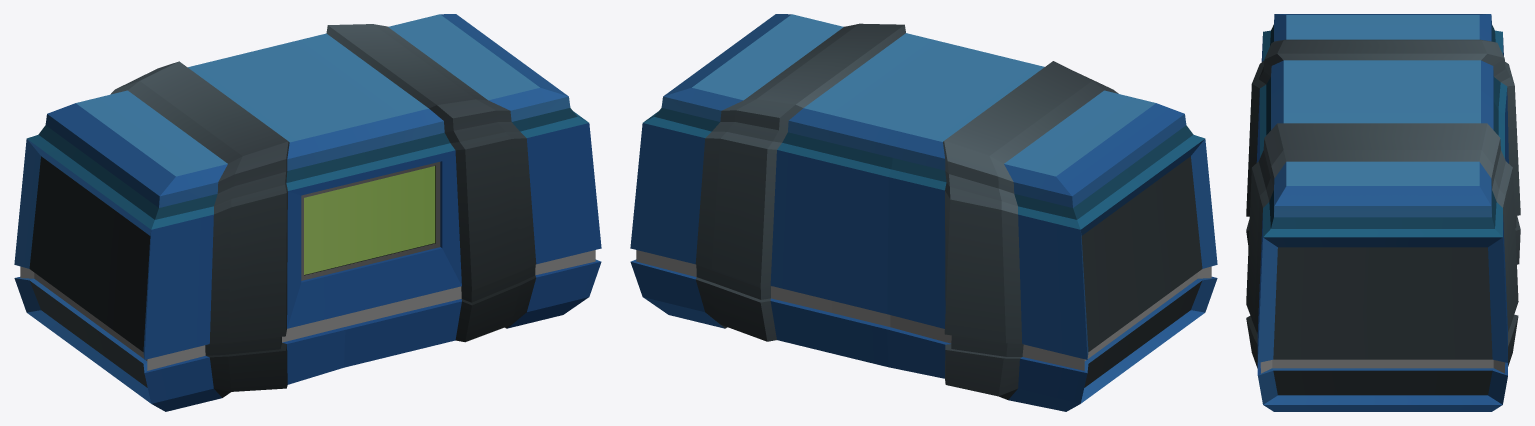
Rendered from Future Med Crate Blue.fbx.
3 renders of one model, left to right at view 1: azimuth 30°, elevation 25°; view 2: azimuth 150°, elevation 25°; view 3: azimuth 270°, elevation 25°, orthographic. The views are drawn at different scales.
Parts seen in each view (by area): view 1: Future Med Crate Blue; view 2: Future Med Crate Blue; view 3: Future Med Crate Blue.
Part boxes in pixels (x1,y1,x2,y2): Future Med Crate Blue: (14, 14, 601, 411); Future Med Crate Blue: (630, 14, 1217, 411); Future Med Crate Blue: (1246, 14, 1520, 411).
Size of the model in its own units: 272 by 294 by 543.
Materials: 1 (1 with a texture image).
